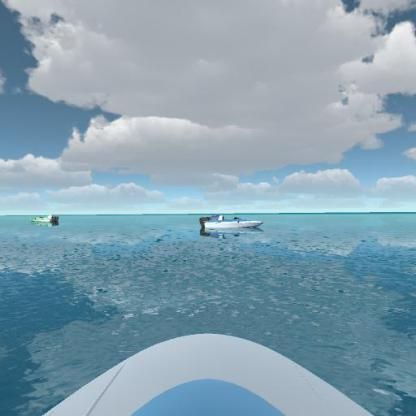usv0: (27, 210, 60, 228)
usv1: (193, 208, 266, 238)
